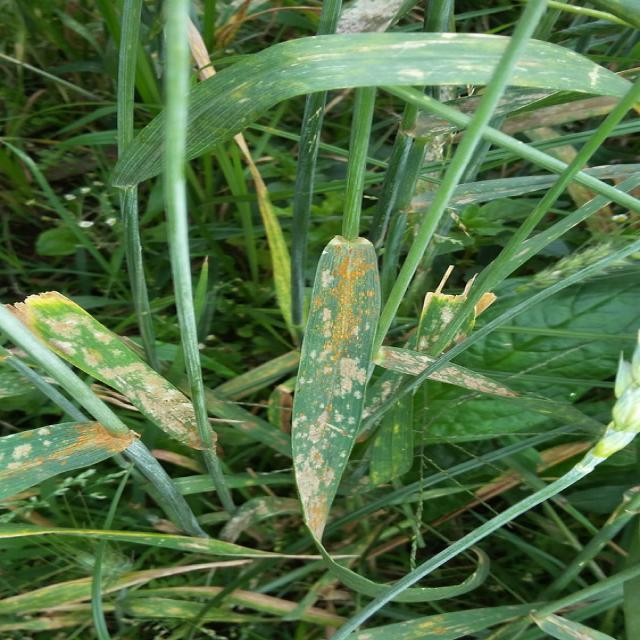wheat-powdery-mildew: (11, 292, 204, 453), (289, 238, 382, 543)
